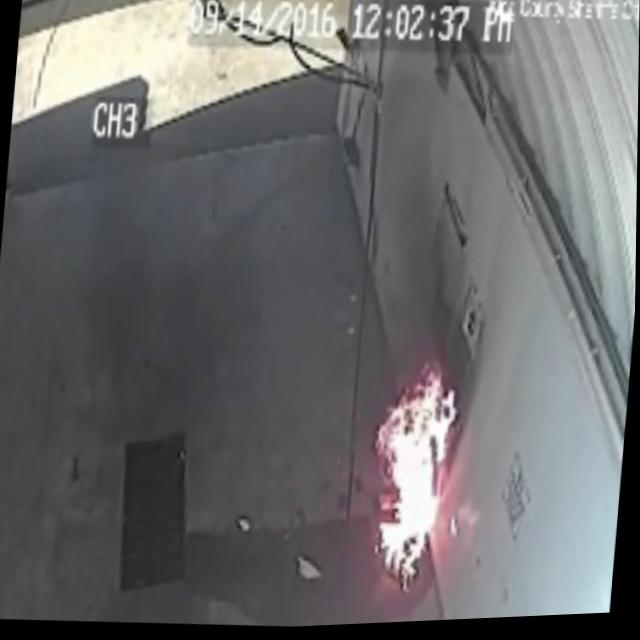fire: (367, 363, 465, 593)
